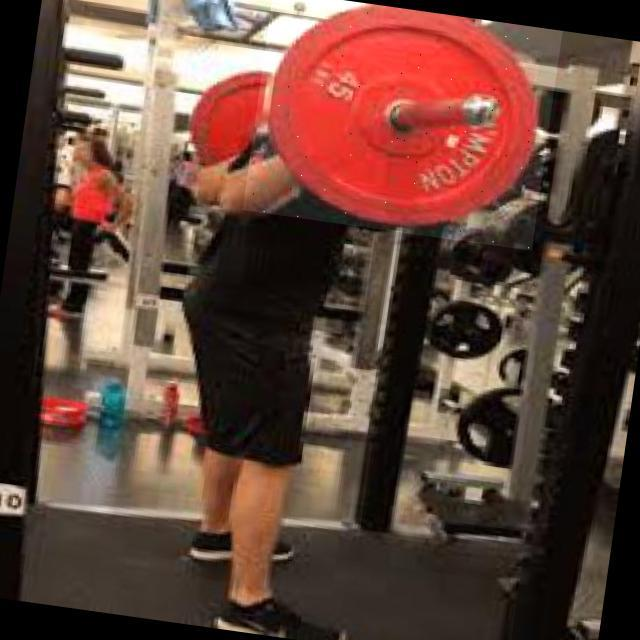barbell: (243, 1, 563, 251)
